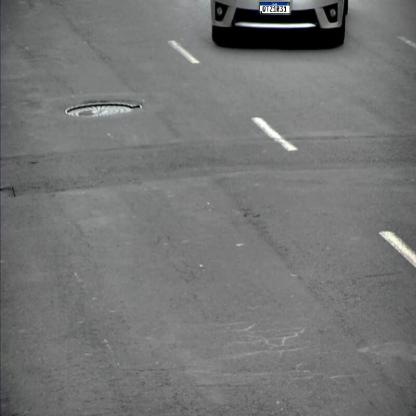PlacaM: (260, 2, 290, 14)
